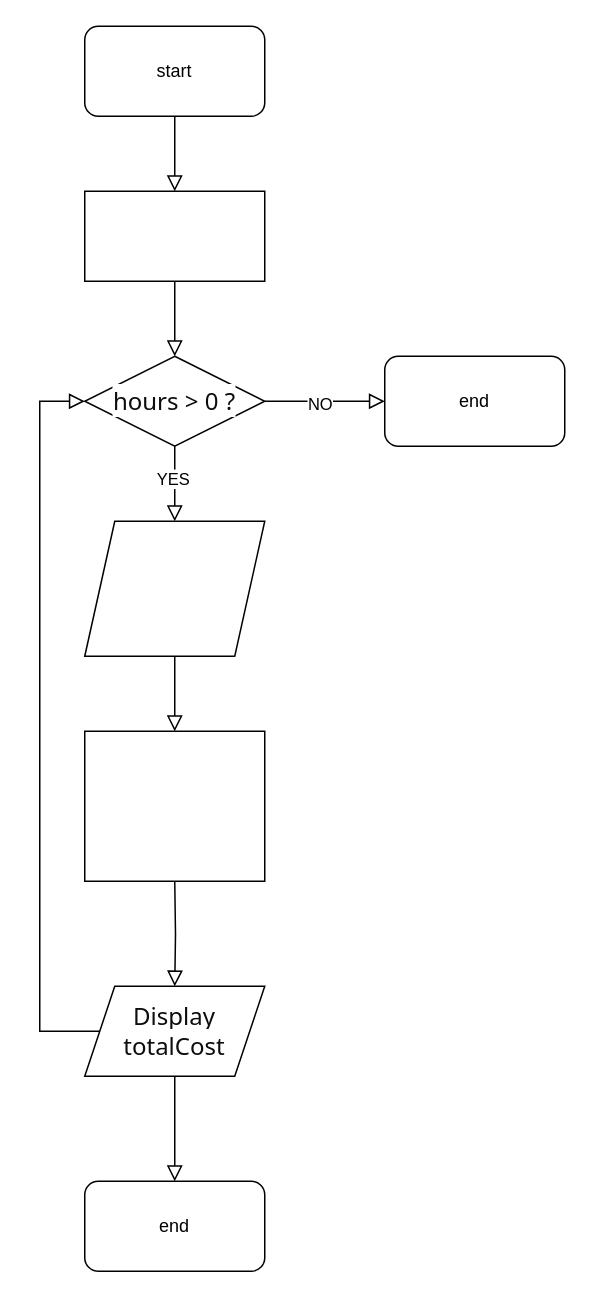
Some shapes in this 591 by 1298 pixel diagram are drawn without their labels. Here are the shapes that lost their labels. From the top down, the centre of each, then its label:
point 174,235: Initialize hours = 1
point 174,588: Input hours and wholesaleCost
point 174,805: totalCost = (hours * 30) + (wholesaleCost * 1.2)
